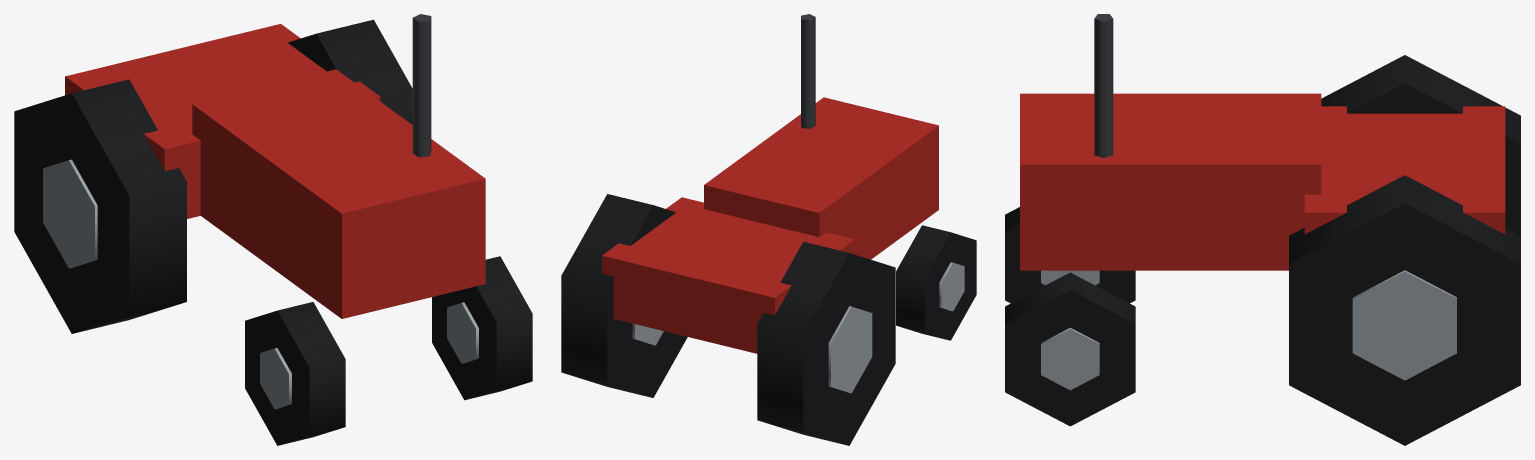
The model's file is veh_ground_tractor_a05_lod1.glb.
The picture shows the model from 3 angles, left to right: view 1: azimuth 30°, elevation 25°; view 2: azimuth 150°, elevation 25°; view 3: azimuth 270°, elevation 25°; orthographic projection. The views are drawn at different scales.
Visible parts, largest first — view 1: body, wheel_0, front_wheel_0, front_wheel_1, wheel_1; view 2: body, wheel_0, wheel_1, front_wheel_0; view 3: body, wheel_1, front_wheel_1, wheel_0, front_wheel_0.
Boxes of the visible parts, x1,y1,x2,y2 form: body: (65, 14, 485, 318); wheel_0: (14, 79, 186, 333); front_wheel_0: (245, 302, 345, 445); front_wheel_1: (432, 256, 532, 400); wheel_1: (288, 19, 412, 124); body: (602, 14, 938, 353); wheel_0: (757, 242, 895, 445); wheel_1: (561, 194, 687, 397); front_wheel_0: (896, 225, 976, 340); body: (1020, 14, 1505, 270); wheel_1: (1289, 175, 1520, 445); front_wheel_1: (1005, 272, 1135, 426); wheel_0: (1321, 55, 1520, 235); front_wheel_0: (1005, 207, 1135, 303).
Size of the model in its own units: 2.14 by 2.5 by 3.08.
